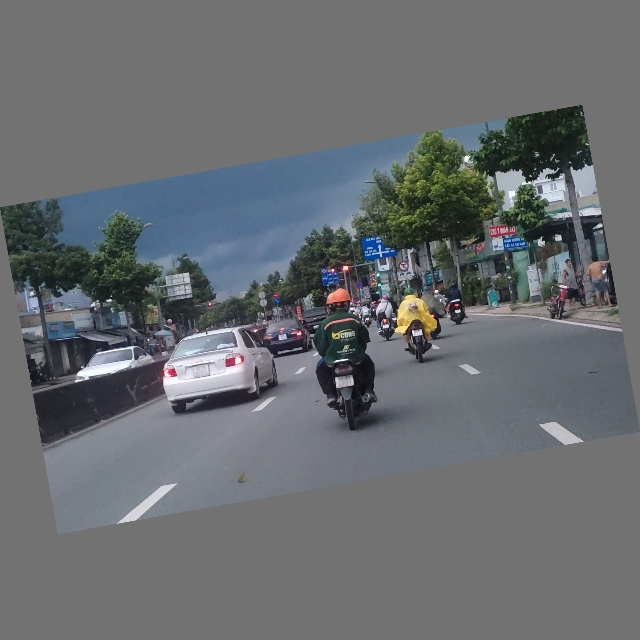P.102: (273, 293, 280, 299)
P.137: (398, 261, 409, 273)
R.302a: (274, 299, 281, 306)
R.415a: (321, 272, 340, 287)
